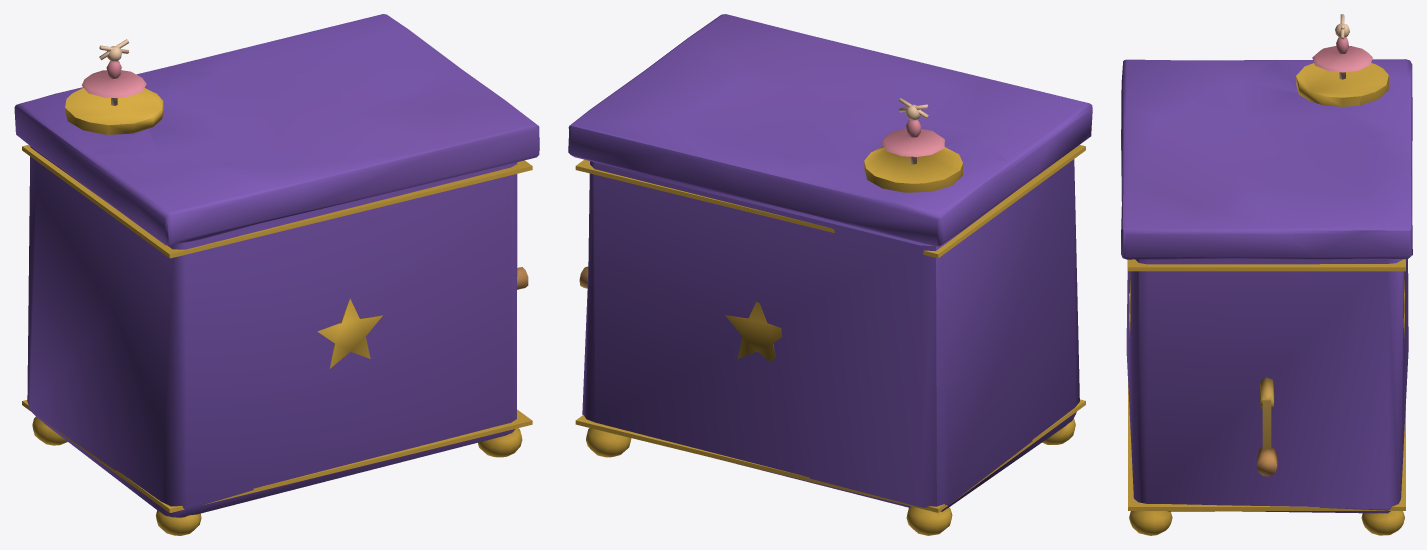
File: den_music_box_lod1.glb
3 views of the same model, side by side, from view 1: azimuth 30°, elevation 25°; view 2: azimuth 150°, elevation 25°; view 3: azimuth 270°, elevation 25° (orthographic). The views are drawn at different scales.
Visible parts, largest first — view 1: den_music_box.001; view 2: den_music_box.001; view 3: den_music_box.001.
Part boxes in pixels (<box>): den_music_box.001: <box>14,14,539,535</box>; den_music_box.001: <box>568,14,1092,535</box>; den_music_box.001: <box>1121,14,1412,535</box>.
Size of the model in its own units: 16.22 by 14.55 by 10.04.
